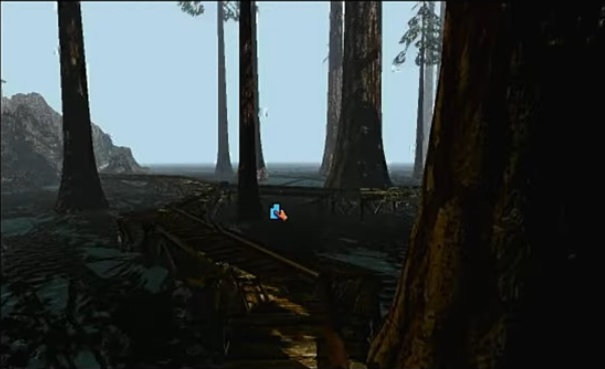Keep: (267, 201, 289, 224)
